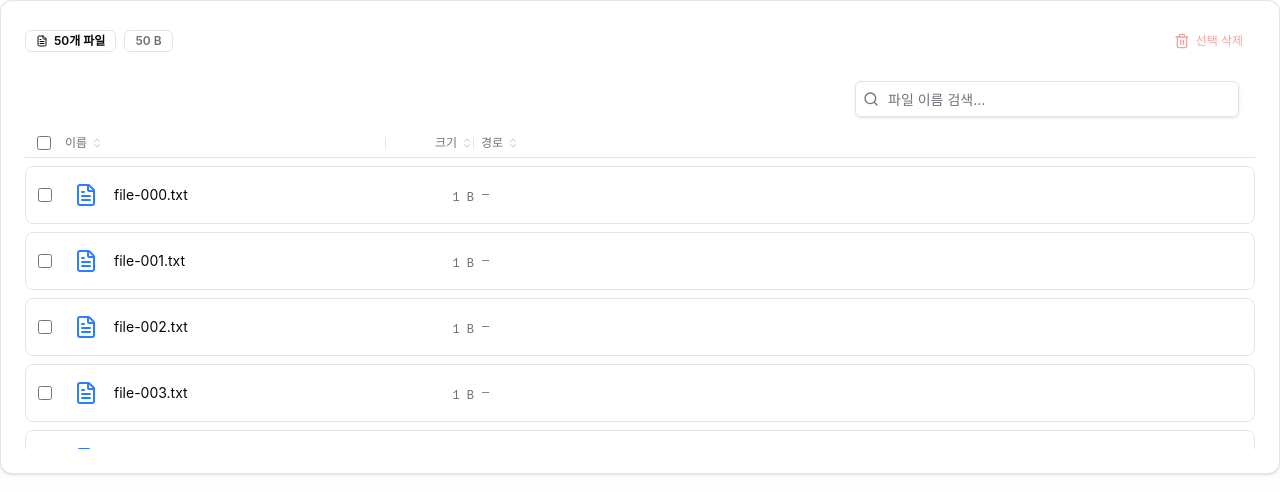
FileList — search/filter at ≥50 files › filters rows in real time by case-insensitive substring match on normalizedName
Type "042" into the field with placeholder "파일 이름 검색…" at (1047, 99), box [855,81,1239,117]
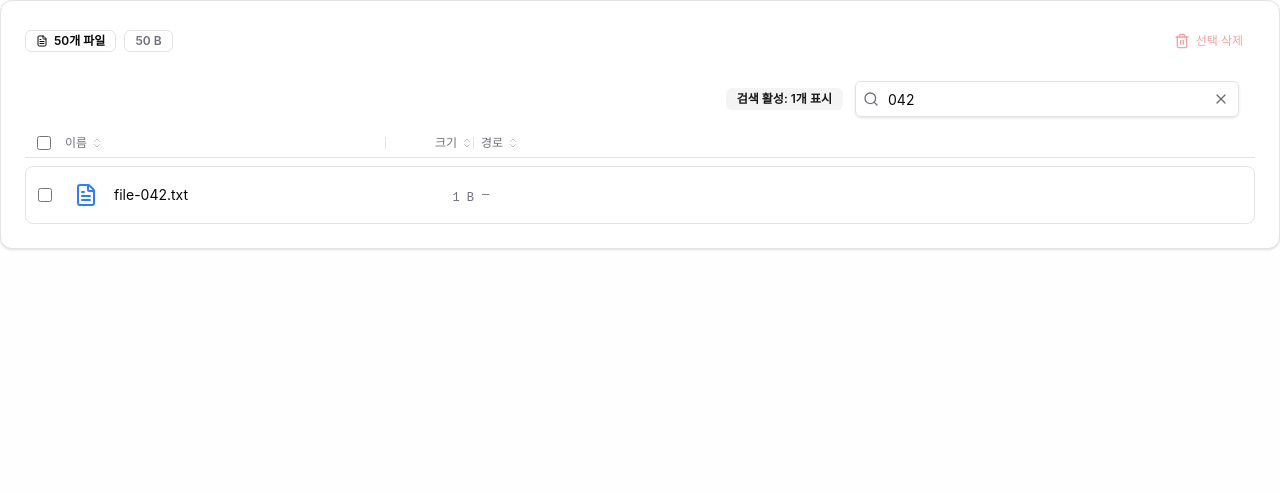
Expected: the text "file-042.txt" is shown, [114,186,188,203]
Expected: the text "file-001.txt" is gone
